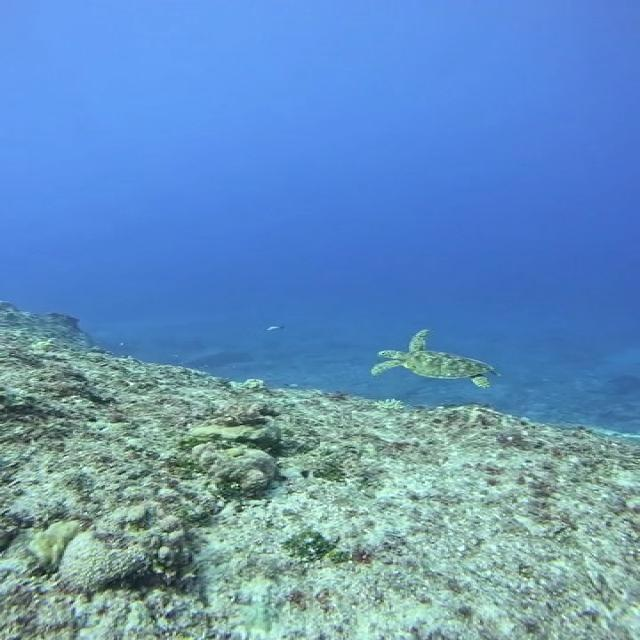turtle: (371, 330, 502, 390)
